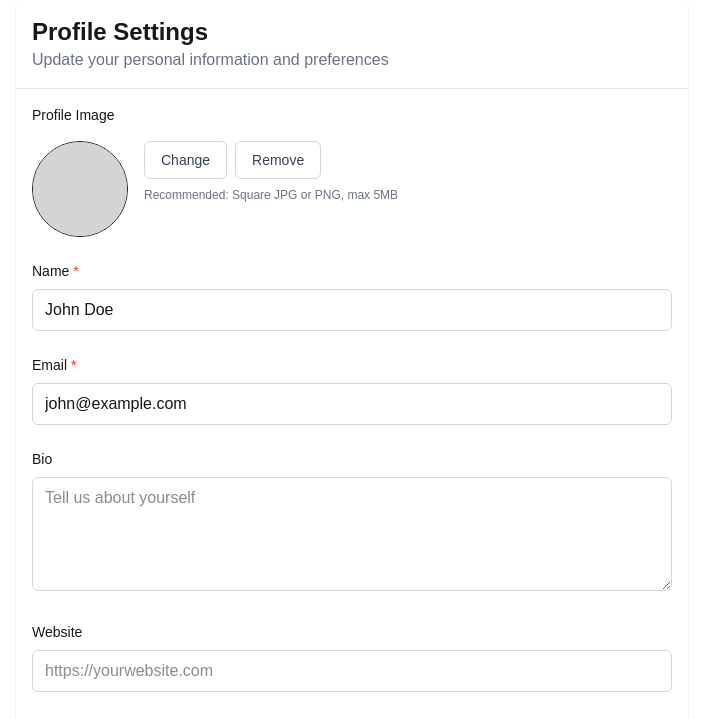
Test case: ProfileForm › submits form with correct data and shows success message
# Update name and email
Step 1. Replace the text in the field with test id "name-input" with "Jane Smith" → (352, 310), box [32, 289, 672, 331]
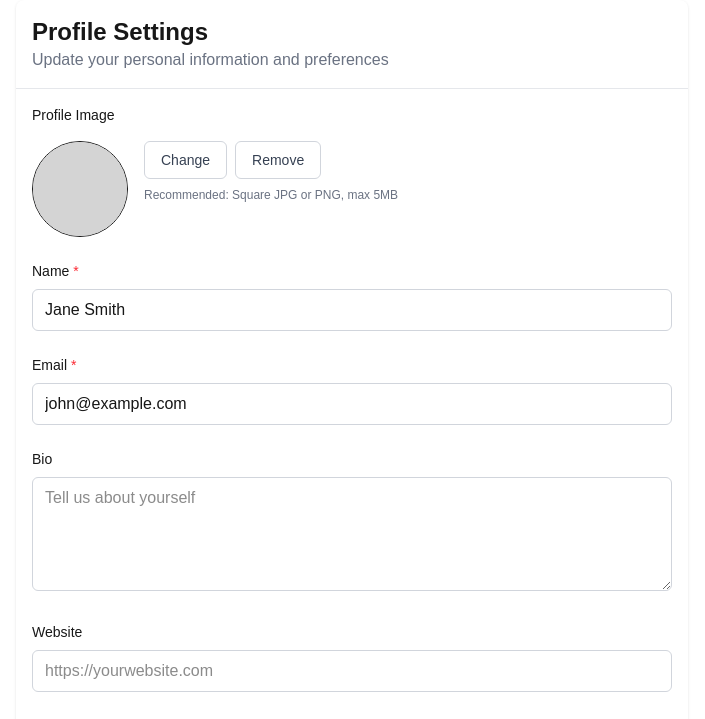
Step 2. Replace the text in the field with test id "email-input" with "jane@example.com" → (352, 404), box [32, 383, 672, 425]
(page scrolled)
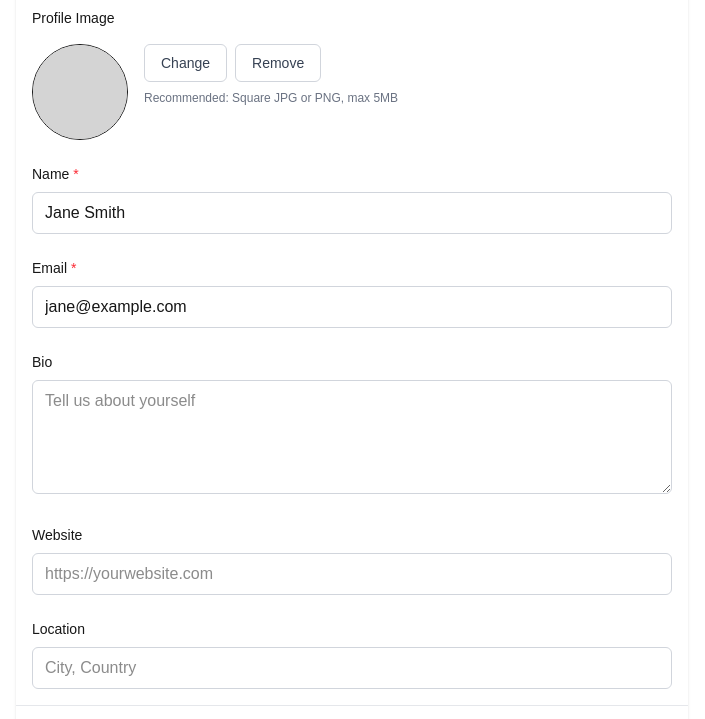
# Submit form
Step 3. Submit the form
(page scrolled)
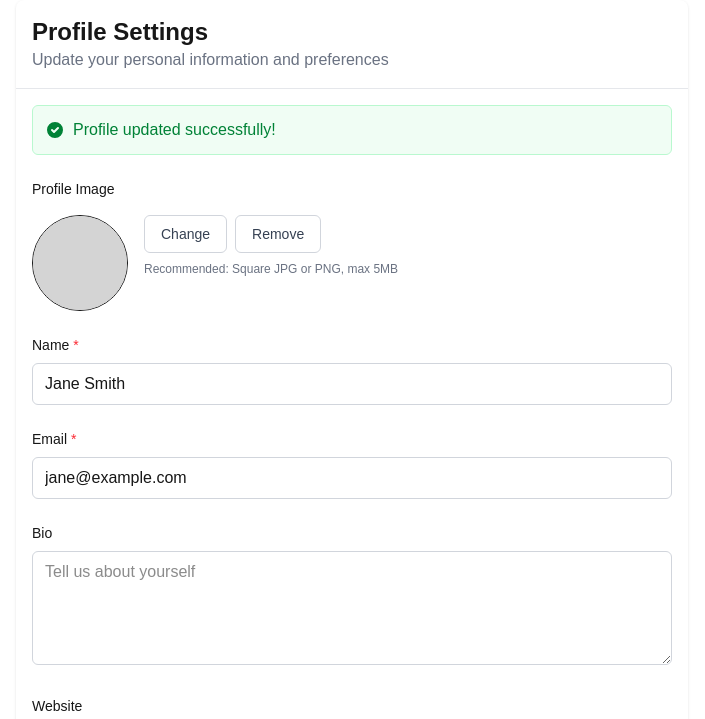
Expected: the text "Profile updated successfully!" is shown, [73, 121, 276, 138]
